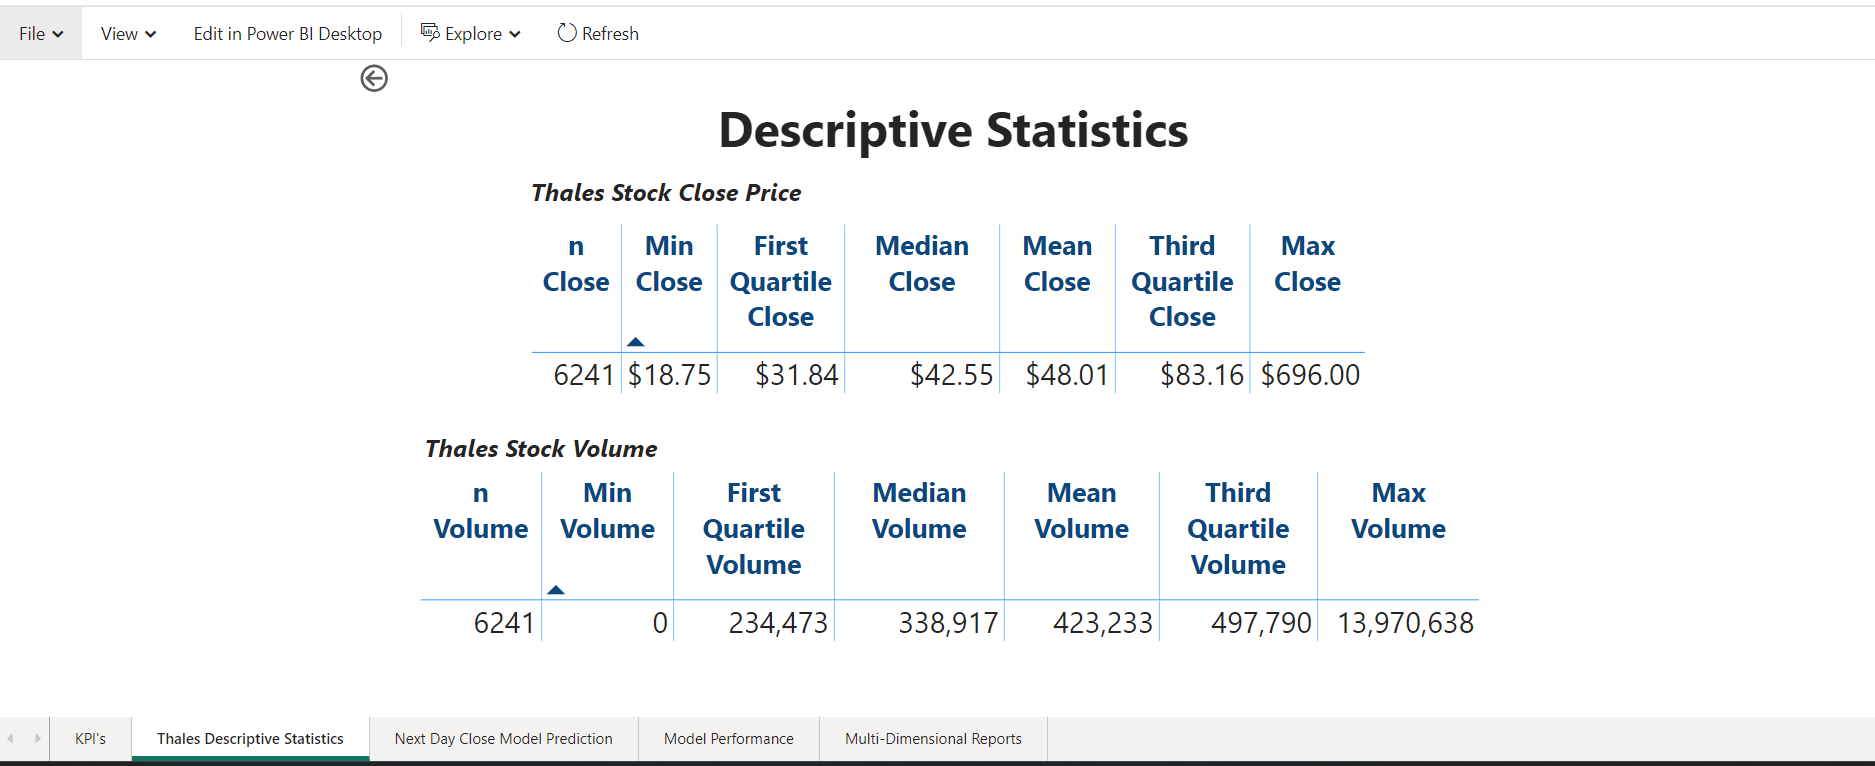

This screenshot's page, from the dashboard's own definition file:
{"tool":"powerbi","page":{"name":"Thales Descriptive Statistics","canvas":[1280,720],"ordinal":1},"visuals":[{"type":"textbox","box":[249.4,20,782.2,70.8],"z":0},{"type":"actionButton","box":[0,0,100,40],"z":1000},{"type":"tableEx","fields":{"Values":["Close_Desc_Stats.n Close","THALES_STOCK.Min Close Price","THALES_STOCK.Thales Close First Quartile1","THALES_STOCK.Median","THALES_STOCK.Average Close Price","THALES_STOCK.Thales Close First Quartile","THALES_STOCK.Max Close Price"]},"box":[161.4,250.3,957.3,96.6],"z":2000},{"type":"tableEx","fields":{"Values":["Volumes_Desc_Stats.n Volume","Volumes_Desc_Stats.Min Volume","Volumes_Desc_Stats.First Quartile Volume","Volumes_Desc_Stats.Mean Volume","vw_THA_BB.Median Volume","Volumes_Desc_Stats.Third Quartile Volume","Volumes_Desc_Stats.Max Volume"]},"box":[86.7,443.5,1105.5,99.9],"z":3000},{"type":"textbox","box":[161.4,197.6,321.6,52.7],"z":4000},{"type":"textbox","box":[86.7,390.8,276.6,52.7],"z":5000}]}

Visuals, with their boxes on the page's 1280x720 design canvas (x1, y1, x2, y2). These are canvas units, not pixel positions in the 1875x766 screenshot, which may show the page scaled, cropped or inside an application window:
textbox: bbox(249, 20, 1032, 91)
actionButton: bbox(0, 0, 100, 40)
tableEx - Close_Desc_Stats.n Close x THALES_STOCK.Min Close Price: bbox(161, 250, 1119, 347)
tableEx - Volumes_Desc_Stats.n Volume x Volumes_Desc_Stats.Min Volume: bbox(87, 444, 1192, 543)
textbox: bbox(161, 198, 483, 250)
textbox: bbox(87, 391, 363, 444)
